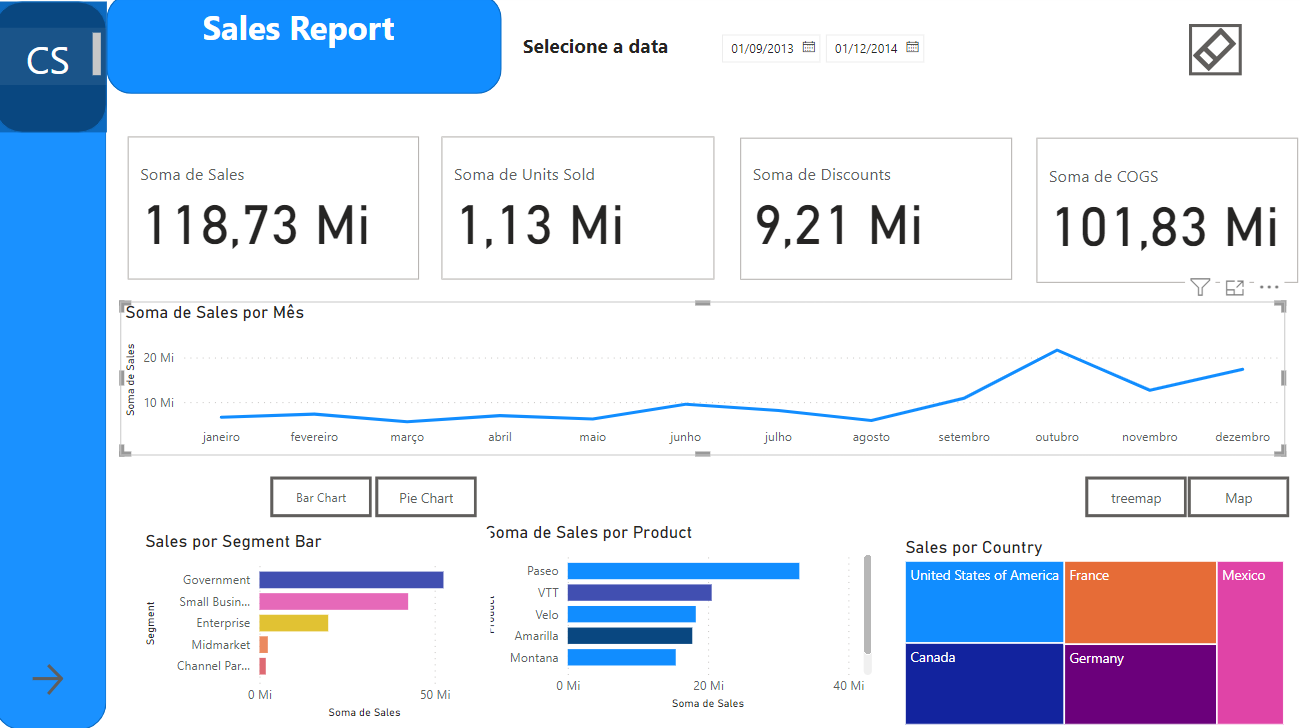

The page's visual inventory and layout, read from the dashboard file:
{"tool":"powerbi","page":{"name":"Página 1","canvas":[1280,720],"ordinal":0},"visuals":[{"type":"shape","box":[110.2,0,386.4,97.6],"z":0},{"type":"textbox","box":[110.2,5.6,375.2,86.5],"z":1000},{"type":"pieChart","title":"Sales por Segment Pie","fields":{"Category":["Sheet1.Segment"],"Y":["Sum(Sheet1. Sales)"]},"box":[143.3,522.9,342.4,189.1],"z":1000,"group":"g1"},{"type":"cardVisual","fields":{"Data":["Sum(Sheet1. Sales)"]},"box":[125.5,133.9,295.7,150.7],"z":2000},{"type":"clusteredBarChart","title":"Sales por Segment Bar","fields":{"Category":["Sheet1.Segment"],"Y":["Sum(Sheet1. Sales)"]},"box":[143.3,524.9,342.4,189.1],"z":2000,"group":"g1"},{"type":"actionButton","title":"Botão Bar","box":[270,472,99.5,39.8],"z":2250,"group":"g1"},{"type":"actionButton","title":"Botão Pie","box":[373.6,472,99.5,39.8],"z":2500,"group":"g1"},{"type":"cardVisual","fields":{"Data":["Sum(Sheet1.Units Sold)"]},"box":[432.7,134.5,277.5,150.4],"z":3000},{"type":"cardVisual","fields":{"Data":["Sum(Sheet1.Discounts)"]},"box":[724.9,135.7,276.3,149.1],"z":4000},{"type":"cardVisual","fields":{"Data":["Sum(Sheet1.COGS)"]},"box":[1014.1,135.3,266.4,152],"z":5000},{"type":"lineChart","fields":{"Y":["Sum(Sheet1. Sales)"],"Category":["Sheet1.Date.Variation.Hierarquia de datas.Mês"]},"box":[123.5,300.7,1139.3,150.4],"z":6000},{"type":"clusteredBarChart","fields":{"Y":["Sum(Sheet1. Sales)"],"Category":["Sheet1.Product"]},"box":[475.8,515.6,388.2,189.1],"z":7000},{"type":"actionButton","title":"Botão treemap","box":[1067,471.8,99.5,39.8],"z":7500,"group":"g2"},{"type":"treemap","title":"Sales por Country","fields":{"Group":["financials.Country"],"Values":["Sum(financials. Sales)"]},"box":[885.8,530.9,380.2,189.1],"z":8000,"group":"g2"},{"type":"actionButton","title":"Botão Map","box":[1166.5,471.8,99.5,39.8],"z":8500,"group":"g2"},{"type":"actionButton","box":[1169,29.3,51.6,50.2],"z":10000},{"type":"slicer","fields":{"Values":["Sheet1.Date"]},"box":[698.9,29.3,219,50.2],"z":11000},{"type":"textbox","box":[511.9,33.5,181.3,41.8],"z":12000},{"type":"actionButton","box":[32,669.5,77.9,40.4],"z":13000},{"type":"shape","box":[0,7,110,712.7],"z":14000},{"type":"shape","box":[0,7,110.2,128.3],"z":15000},{"type":"textbox","box":[4.2,33.5,106,55.8],"z":16000},{"type":"actionButton","title":"Botão voltar","box":[32,650,100.2,40.4],"z":17000},{"type":"group","id":"g1","title":"Grupo 1","box":[143.3,472,342.4,242],"z":18000},{"type":"group","id":"g2","title":"Grupo 2","box":[885.8,471.8,380.2,248.8],"z":18001}]}

Visuals, with their boxes on the page's 1280x720 design canvas (x1, y1, x2, y2). These are canvas units, not pixel positions in the 1300x728 screenshot, which may show the page scaled, cropped or inside an application window:
shape: crop(110, 0, 497, 98)
textbox: crop(110, 6, 485, 92)
"Sales por Segment Pie" pieChart: crop(143, 523, 486, 712)
cardVisual - Sum(Sheet1. Sales): crop(126, 134, 421, 285)
"Sales por Segment Bar" clusteredBarChart: crop(143, 525, 486, 714)
"Botão Bar" actionButton: crop(270, 472, 370, 512)
"Botão Pie" actionButton: crop(374, 472, 473, 512)
cardVisual - Sum(Sheet1.Units Sold): crop(433, 134, 710, 285)
cardVisual - Sum(Sheet1.Discounts): crop(725, 136, 1001, 285)
cardVisual - Sum(Sheet1.COGS): crop(1014, 135, 1280, 287)
lineChart - Sum(Sheet1. Sales) x Sheet1.Date.Variation.Hierarquia de datas.Mês: crop(124, 301, 1263, 451)
clusteredBarChart - Sum(Sheet1. Sales) x Sheet1.Product: crop(476, 516, 864, 705)
"Botão treemap" actionButton: crop(1067, 472, 1166, 512)
"Sales por Country" treemap: crop(886, 531, 1266, 720)
"Botão Map" actionButton: crop(1166, 472, 1266, 512)
actionButton: crop(1169, 29, 1221, 80)
slicer - Sheet1.Date: crop(699, 29, 918, 80)
textbox: crop(512, 34, 693, 75)
actionButton: crop(32, 670, 110, 710)
shape: crop(0, 7, 110, 720)
shape: crop(0, 7, 110, 135)
textbox: crop(4, 34, 110, 89)
"Botão voltar" actionButton: crop(32, 650, 132, 690)
"Grupo 1" group: crop(143, 472, 486, 714)
"Grupo 2" group: crop(886, 472, 1266, 721)
